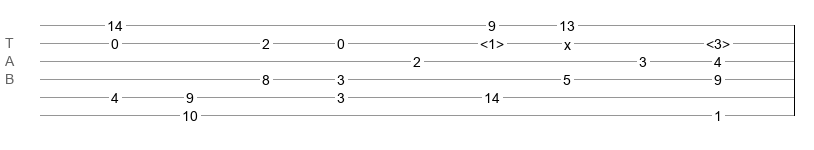0: (111, 36, 119, 46), (337, 36, 345, 46)
1: (714, 108, 722, 118)
10: (182, 108, 198, 118)
13: (559, 18, 575, 28)
14: (107, 18, 123, 28), (484, 90, 500, 100)
2: (262, 36, 270, 46), (413, 54, 421, 64)
3: (337, 72, 345, 82), (337, 90, 345, 100), (639, 54, 647, 64)
4: (111, 90, 119, 100), (714, 54, 722, 64)
5: (563, 72, 571, 82)
8: (262, 72, 270, 82)
9: (186, 90, 194, 100), (488, 18, 496, 28), (714, 72, 722, 82)
harmonic: (480, 36, 504, 46), (706, 36, 730, 46)
x: (564, 37, 571, 45)
